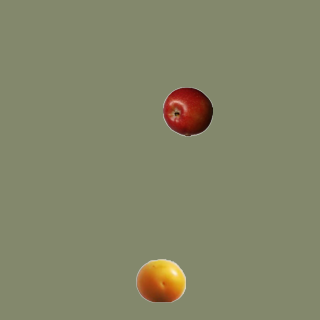Apple Braeburn: (162, 86, 212, 136)
Cherry Wax Yellow: (135, 255, 185, 305)
